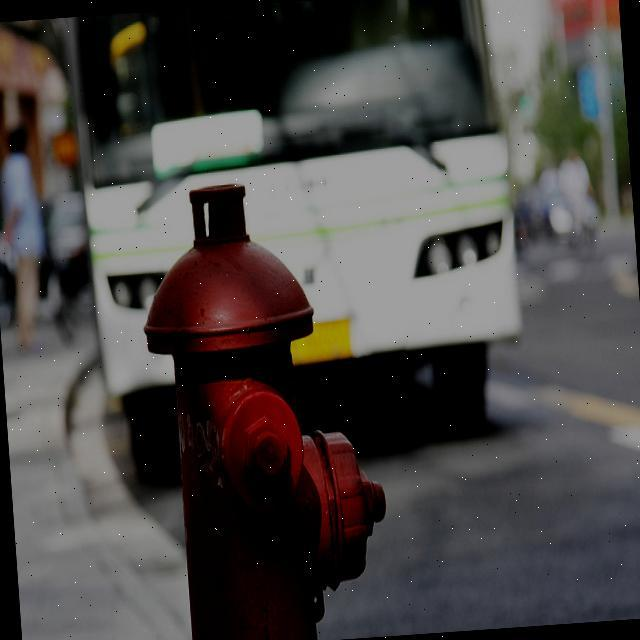fire_hydrant: (131, 172, 394, 640)
